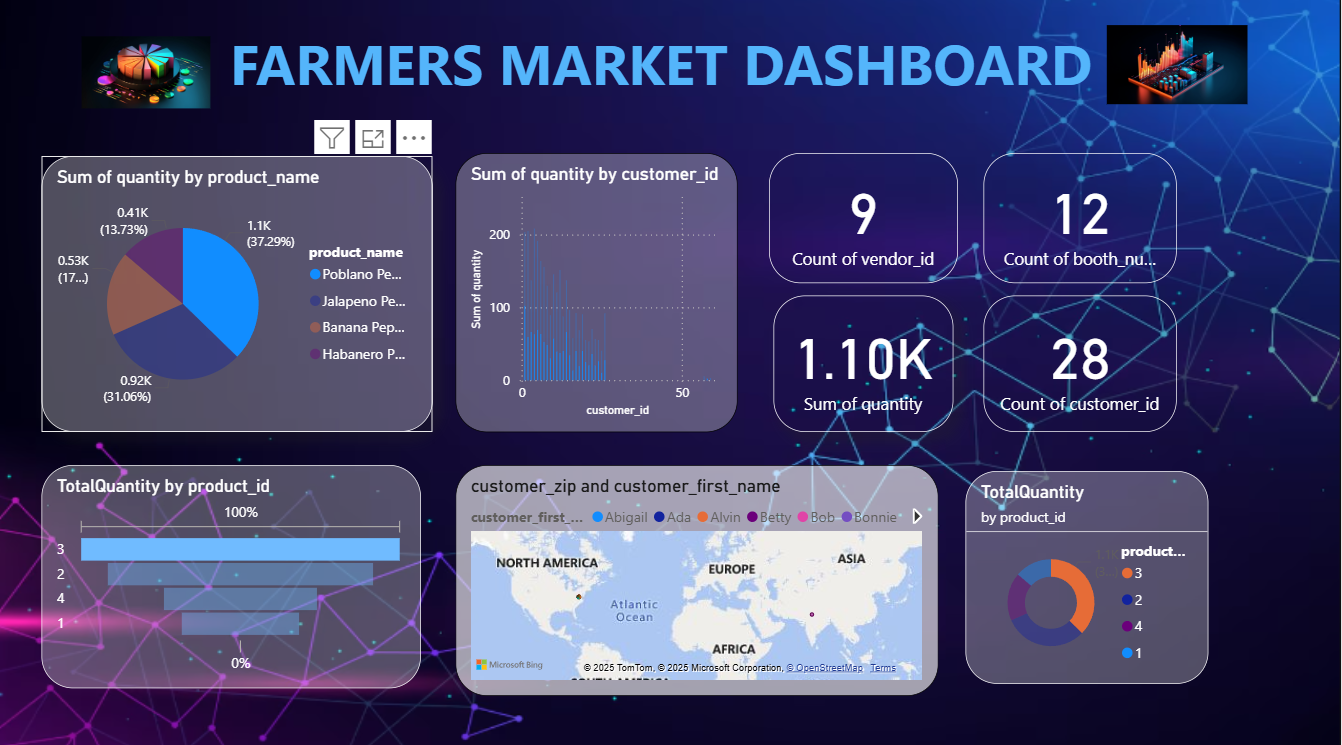

Layout of this report page (visuals, bound fields, positions):
{"tool":"powerbi","page":{"name":"Page 2","canvas":[1280,720],"ordinal":1},"visuals":[{"type":"textbox","box":[0,24.3,1262.9,130],"z":0},{"type":"image","box":[74.3,24.3,132.9,100],"z":1000},{"type":"image","box":[1050,24.3,145.7,85.7],"z":2000},{"type":"card","fields":{"Values":["Sum(customer_purchases.quantity)"]},"box":[738.6,287.1,171.4,130],"z":3000},{"type":"card","fields":{"Values":["CountNonNull(customer.customer_id)"]},"box":[938.6,287.1,184.3,130],"z":4000},{"type":"card","fields":{"Values":["CountNonNull(vendor.vendor_id)"]},"box":[734.3,151.4,180,124.3],"z":5000},{"type":"card","fields":{"Values":["CountNonNull(booth.booth_number)"]},"box":[938.6,151.4,184.3,124.3],"z":6000},{"type":"pieChart","fields":{"Category":["product.product_name"],"Y":["Sum(customer_purchases.quantity)"]},"box":[41.4,154.3,372.9,262.9],"z":7000},{"type":"columnChart","fields":{"Category":["customer_purchases.customer_id"],"Y":["Sum(customer_purchases.quantity)"]},"box":[435.7,151.4,268.6,265.7],"z":7001},{"type":"funnel","fields":{"Category":["customer_purchases.product_id"],"Y":["customer_purchases.TotalQuantity"]},"box":[41.4,448.6,361.4,212.9],"z":7002},{"type":"map","fields":{"Category":["customer.customer_zip"],"Series":["customer.customer_first_name"]},"box":[435.7,448.6,460,220],"z":7003},{"type":"donutChart","fields":{"Category":["customer_purchases.product_id"],"Y":["customer_purchases.TotalQuantity"]},"box":[921.4,454.3,231.4,202.9],"z":7004}]}

Visuals, with their boxes in screenshot pixels (x1, y1, x2, y2), scaled from the page's 1280x720 canvas onto the 1342x745 screenshot:
textbox: x1=0, y1=25, x2=1324, y2=160
image: x1=78, y1=25, x2=217, y2=129
image: x1=1101, y1=25, x2=1254, y2=114
card - Sum(customer_purchases.quantity): x1=774, y1=297, x2=954, y2=432
card - CountNonNull(customer.customer_id): x1=984, y1=297, x2=1177, y2=432
card - CountNonNull(vendor.vendor_id): x1=770, y1=157, x2=959, y2=285
card - CountNonNull(booth.booth_number): x1=984, y1=157, x2=1177, y2=285
pieChart - product.product_name x Sum(customer_purchases.quantity): x1=43, y1=160, x2=434, y2=432
columnChart - customer_purchases.customer_id x Sum(customer_purchases.quantity): x1=457, y1=157, x2=738, y2=432
funnel - customer_purchases.product_id x customer_purchases.TotalQuantity: x1=43, y1=464, x2=422, y2=684
map - customer.customer_zip x customer.customer_first_name: x1=457, y1=464, x2=939, y2=692
donutChart - customer_purchases.product_id x customer_purchases.TotalQuantity: x1=966, y1=470, x2=1209, y2=680
